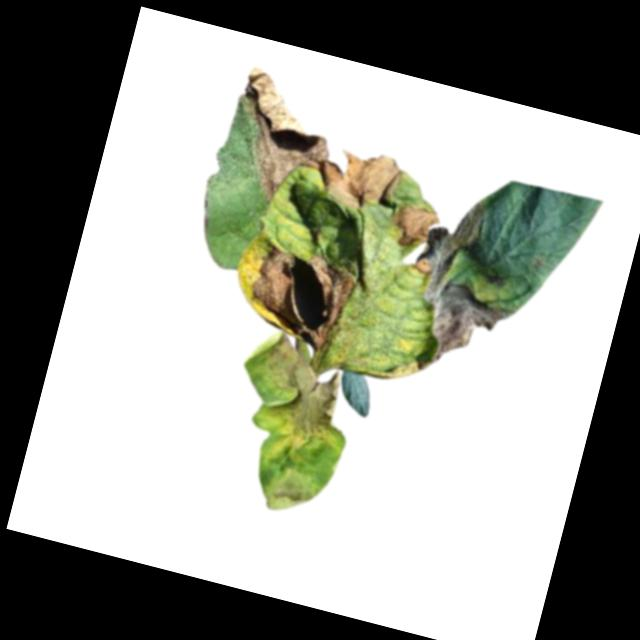Late_blight: (217, 64, 348, 216), (240, 237, 362, 355), (247, 328, 353, 452), (405, 191, 489, 308), (419, 279, 515, 379), (295, 136, 406, 219), (259, 458, 329, 523), (385, 197, 444, 254)
